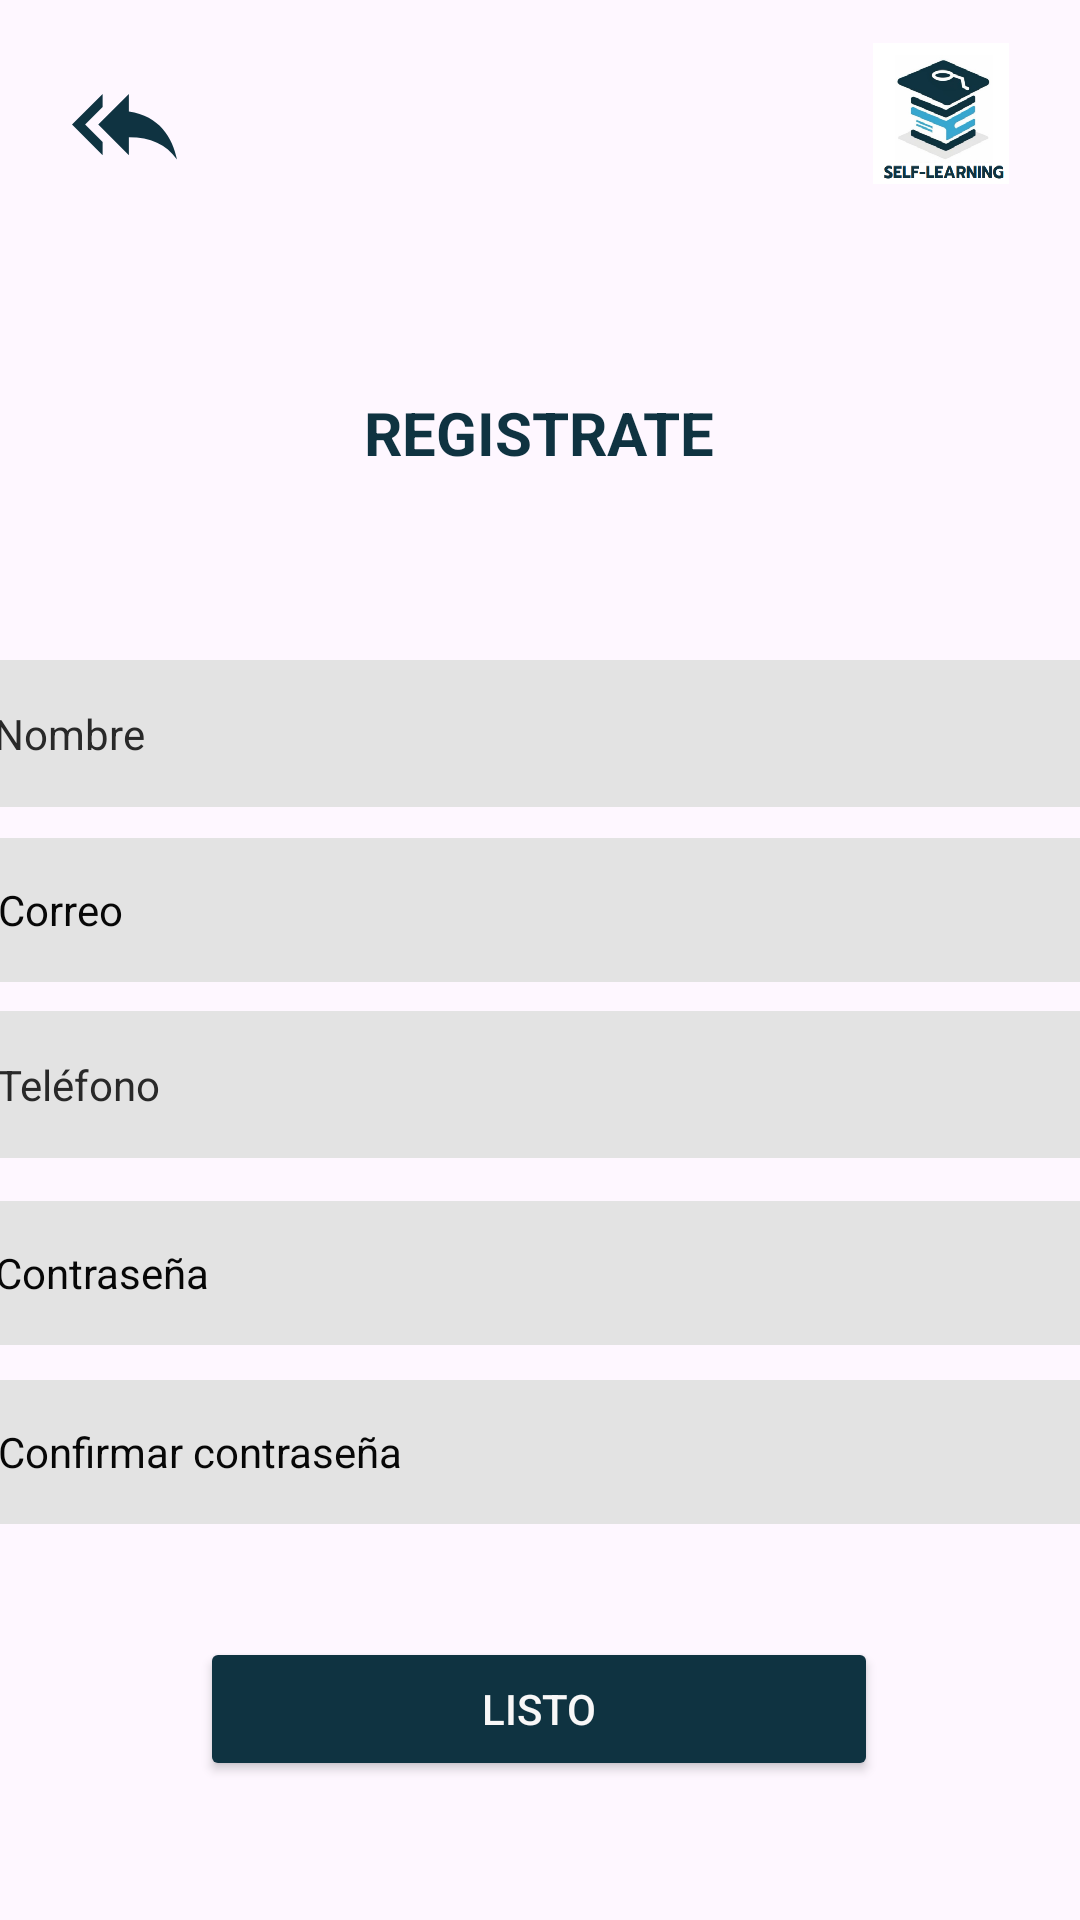

Locate icon controls on the screen. Image size 1080 × 1920, boxes as region(x1, y1, x2, y2).
backimage: region(72, 94, 177, 159)
